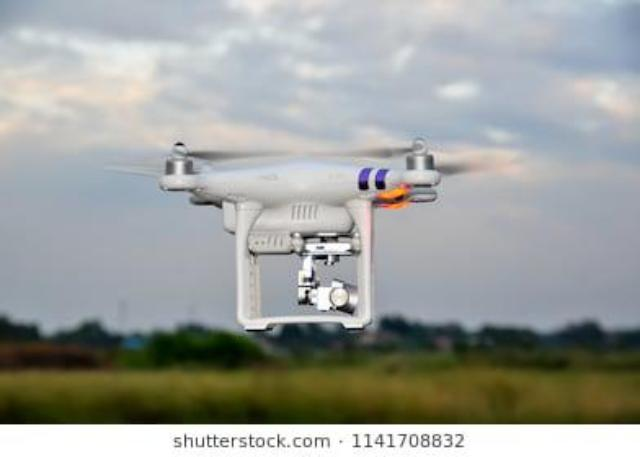drone: (0, 87, 640, 457)
